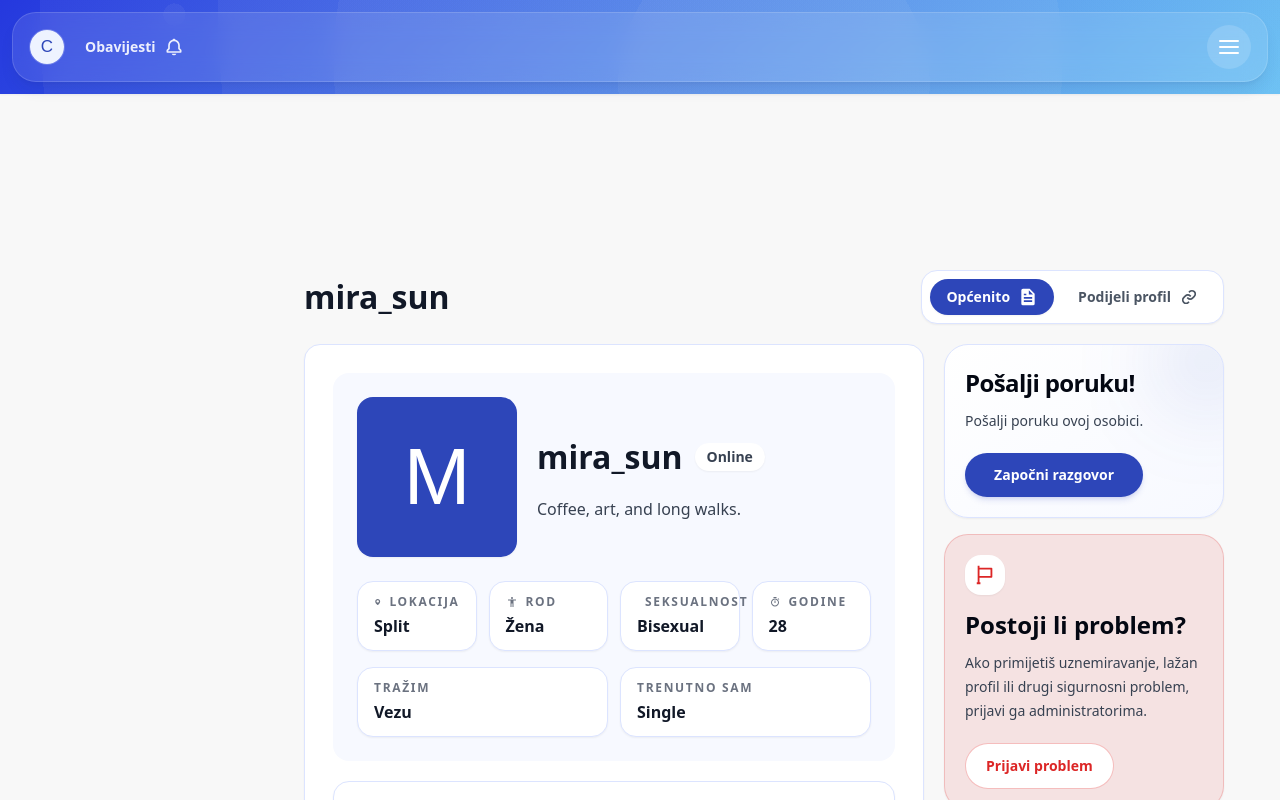
it: users and profiles › creates a new chat from a profile without an existing conversation
Click the button with test id "profile-send-message-button" at (1054, 475), box [965,453,1143,497]
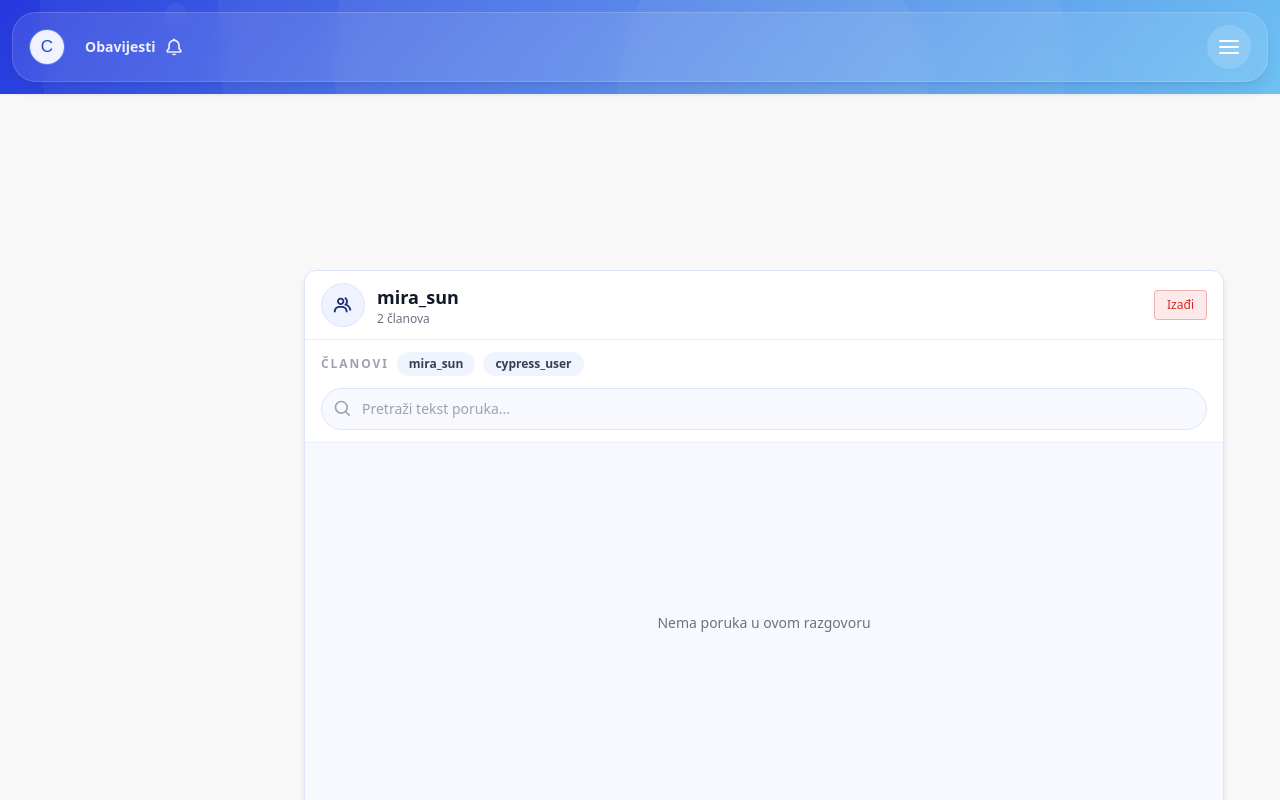
Now the element with test id "chat-page" is shown, box [304,270,1224,799]
